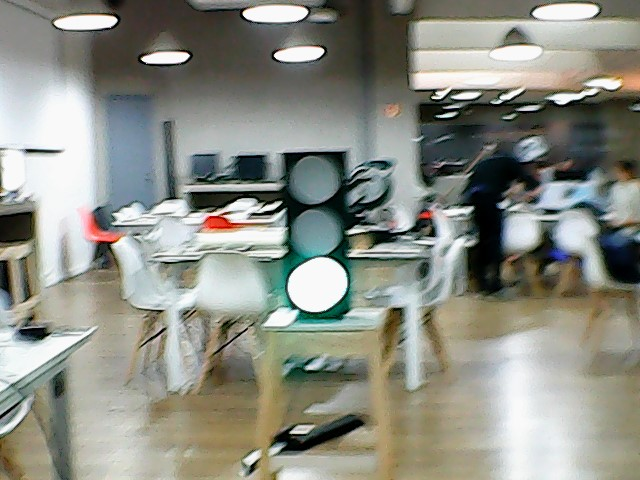verde: (267, 144, 366, 337)
